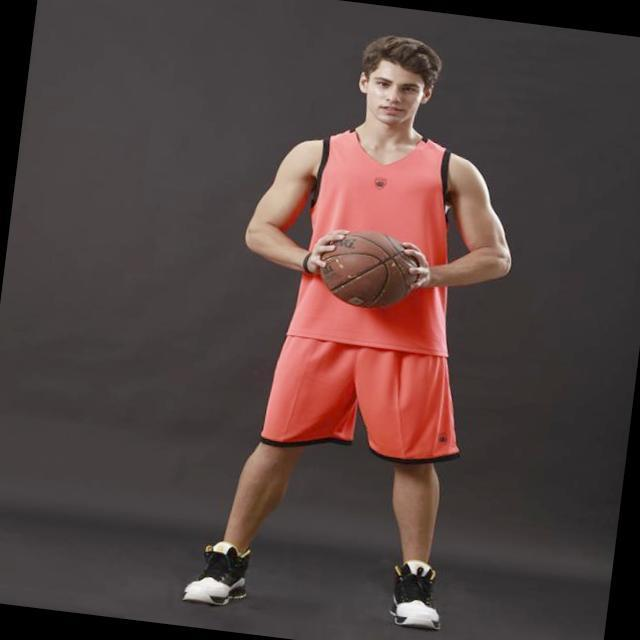ball: (314, 225, 422, 313)
